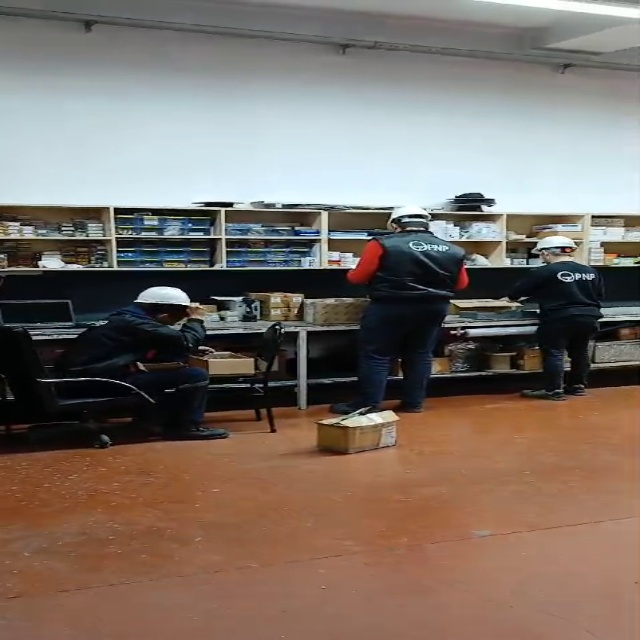safety_helmet: (133, 285, 192, 307), (386, 204, 432, 232), (531, 235, 578, 255)
